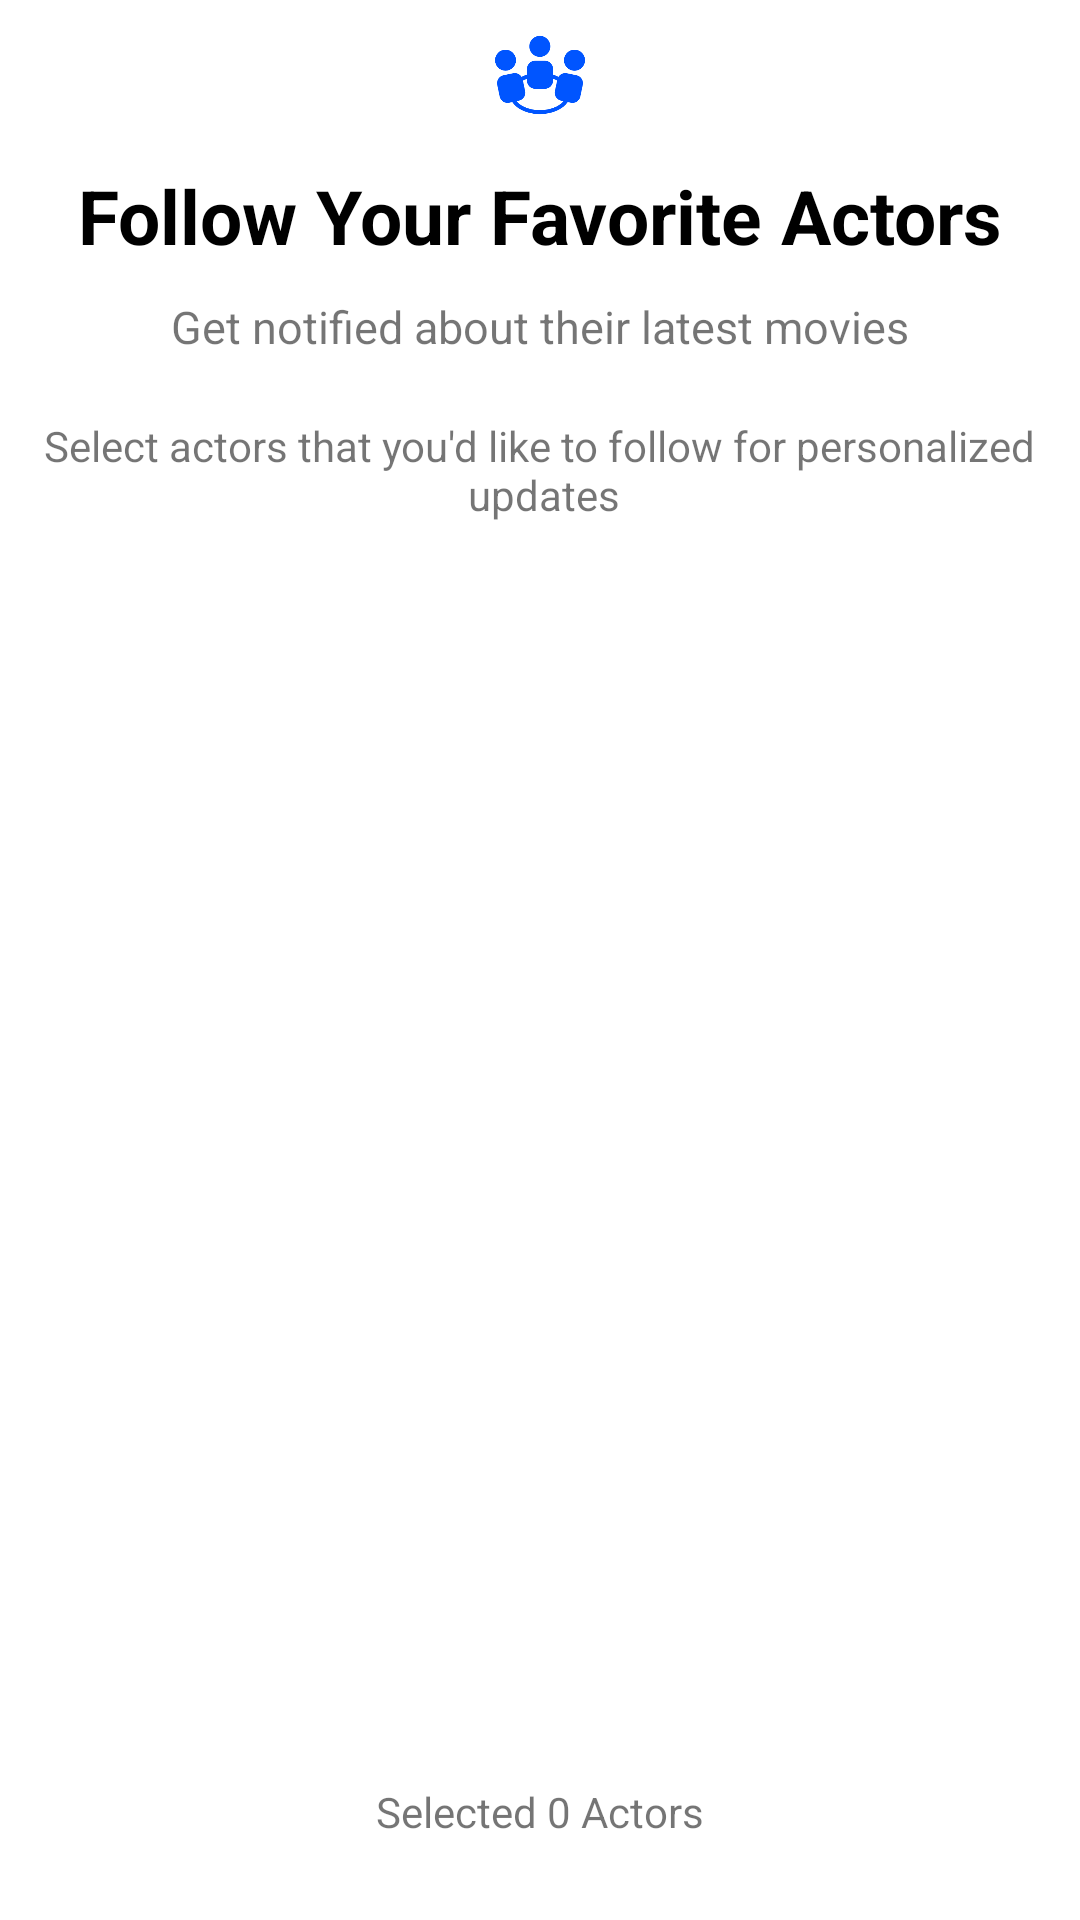

Screen size 1080x1920. Icon name, then its box in pixels as bbox=[x1, y1, x2, y2]:
community: bbox=[495, 36, 585, 114]
